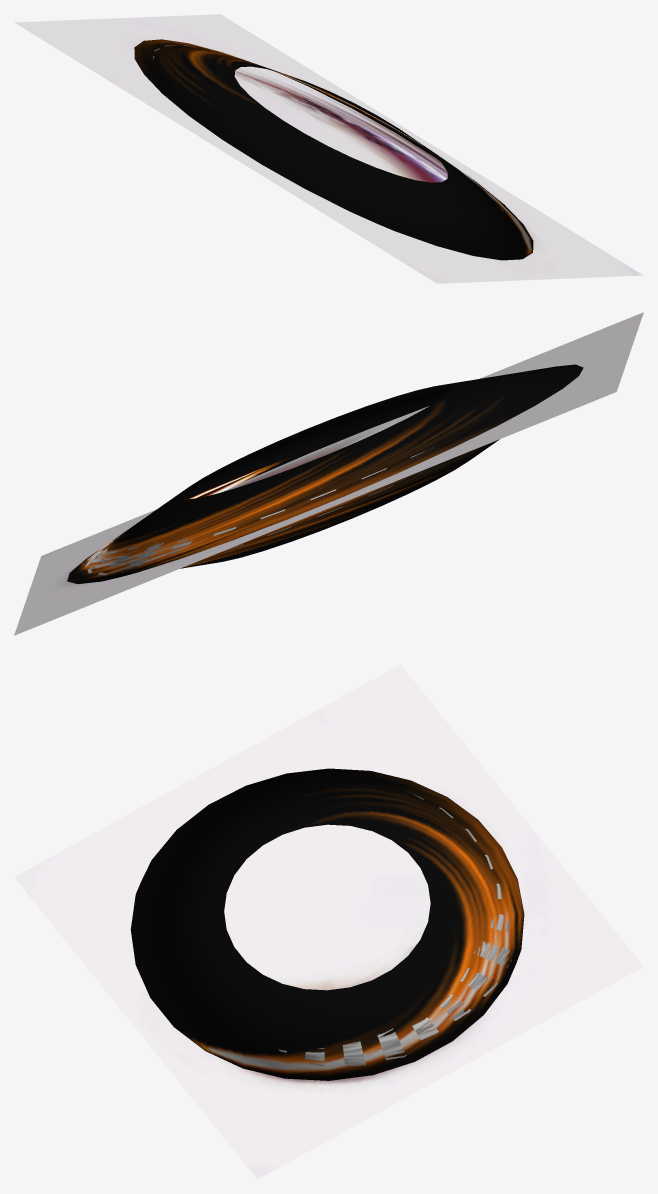
File: houshuai.FBX
3 views of the same model, one above another, from view 1: azimuth 30°, elevation 25°; view 2: azimuth 150°, elevation 25°; view 3: azimuth 270°, elevation 25° (orthographic). The views are drawn at different scales.
Visible parts, largest first — view 1: Plane01, Tube01; view 2: Tube01, Plane01, Tube02; view 3: Plane01, Tube01, Tube02.
Part boxes in pixels (<box>): Plane01: <box>14,14,643,283</box>; Tube01: <box>134,39,533,260</box>; Tube01: <box>67,364,583,584</box>; Plane01: <box>14,312,643,635</box>; Tube02: <box>82,450,427,575</box>; Plane01: <box>14,664,643,1179</box>; Tube01: <box>130,768,524,1080</box>; Tube02: <box>278,794,511,1065</box>.
Bounding box in the file's own units: 5.91 × 6.79 × 3.37.
3 materials, 3 textured.
